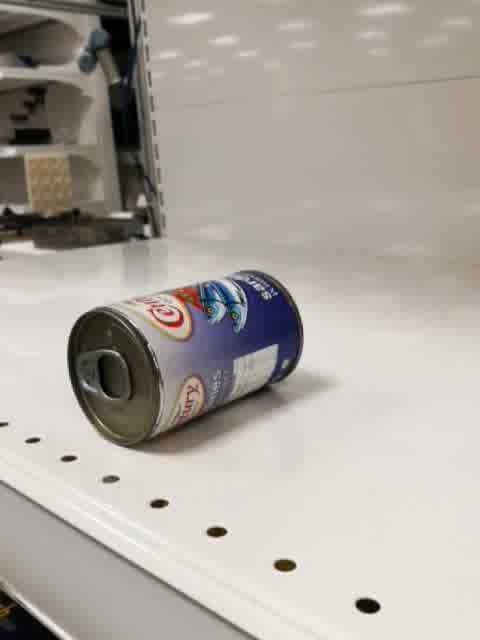sardine: (66, 269, 303, 447)
